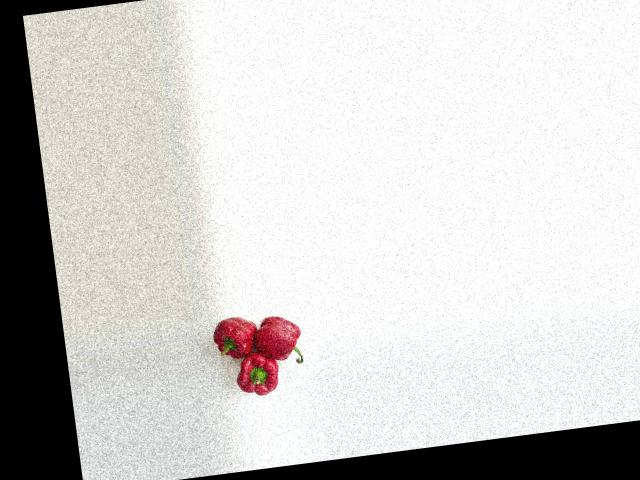bell_pepper: (255, 309, 315, 370)
